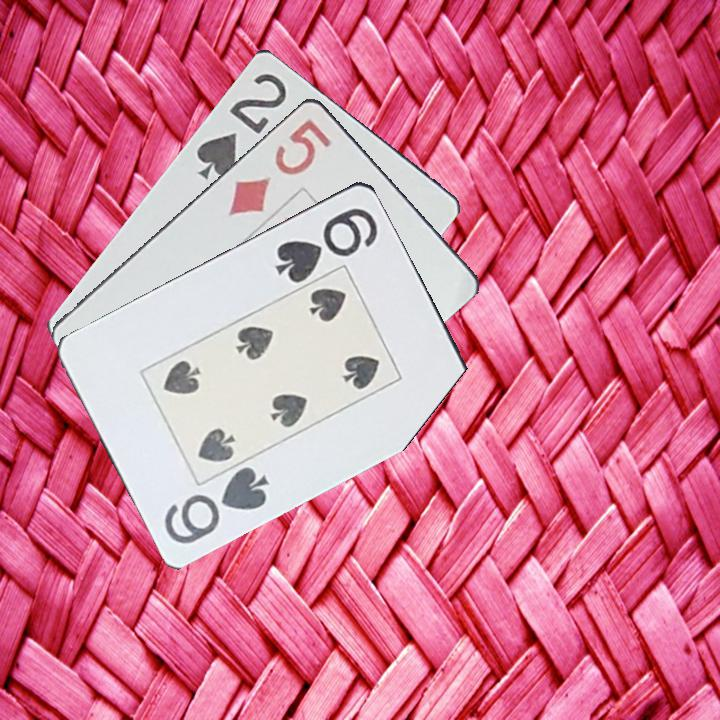2s: (191, 69, 290, 182)
5d: (225, 114, 334, 218)
6s: (160, 462, 273, 547), (271, 203, 381, 285)
